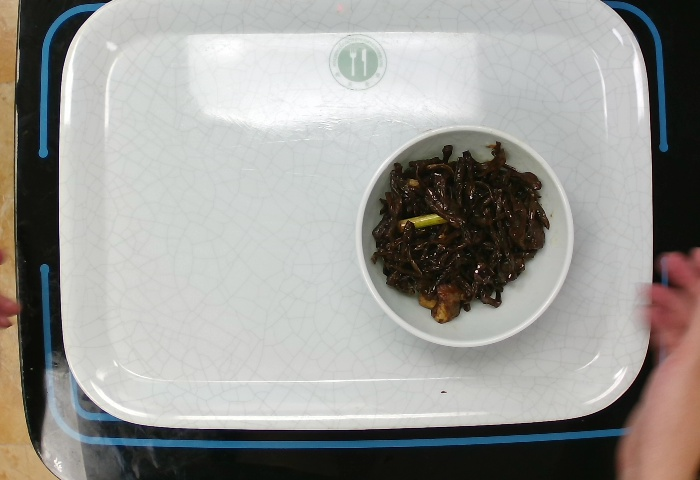JYsf-Fan_Wan: (354, 122, 576, 349)
